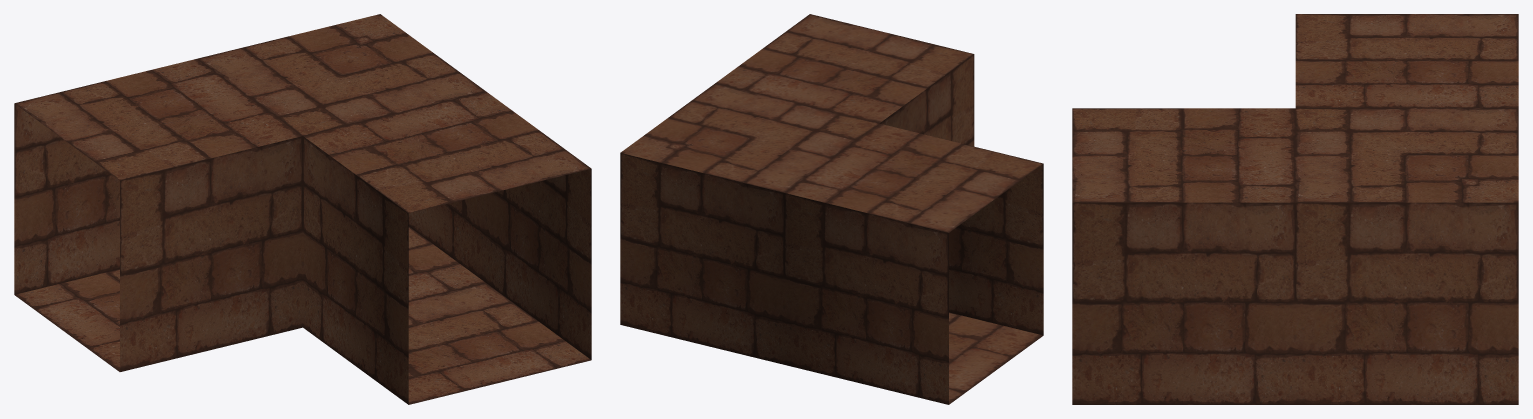
The model's file is Corridor_Turn_1x2.fbx.
3 views of the same model, side by side, from view 1: azimuth 30°, elevation 25°; view 2: azimuth 150°, elevation 25°; view 3: azimuth 270°, elevation 25° (orthographic). The views are drawn at different scales.
Visible parts, largest first — view 1: Corridor_Turn_1x2; view 2: Corridor_Turn_1x2; view 3: Corridor_Turn_1x2.
Boxes of the visible parts, bbox=[...] form: Corridor_Turn_1x2: bbox=[14, 14, 591, 404]; Corridor_Turn_1x2: bbox=[620, 14, 1043, 404]; Corridor_Turn_1x2: bbox=[1072, 14, 1518, 404].
Size of the model in its own units: 132 by 66.08 by 132.
